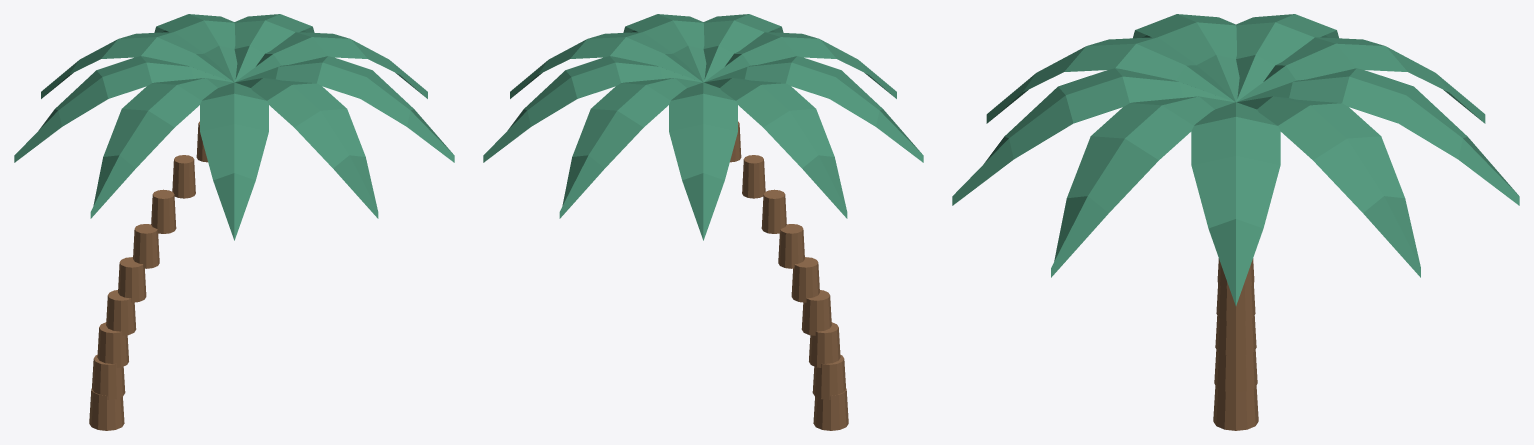
File: palm.glb
The picture shows the model from 3 angles, left to right: view 1: azimuth 30°, elevation 25°; view 2: azimuth 150°, elevation 25°; view 3: azimuth 270°, elevation 25°; orthographic projection. The views are drawn at different scales.
Visible parts, largest first — view 1: Sculpted palm frond.006, Sculpted palm frond.007, Sculpted palm frond.005, Sculpted palm frond.008, Sculpted palm frond.004, Sculpted palm frond.003, Sculpted palm frond, Sculpted palm frond.002, Sculpted palm frond.001, Ringed trunk, Ringed trunk.001, Ringed trunk.003 (+5 smaller); view 2: Sculpted palm frond.003, Sculpted palm frond.004, Sculpted palm frond.002, Sculpted palm frond.005, Sculpted palm frond.001, Sculpted palm frond, Sculpted palm frond.006, Sculpted palm frond.008, Sculpted palm frond.007, Ringed trunk, Ringed trunk.001, Ringed trunk.003 (+5 smaller); view 3: Sculpted palm frond, Sculpted palm frond.001, Sculpted palm frond.008, Sculpted palm frond.002, Sculpted palm frond.007, Sculpted palm frond.006, Sculpted palm frond.003, Sculpted palm frond.005, Sculpted palm frond.004, Ringed trunk, Ringed trunk.001, Ringed trunk.002 (+1 smaller).
Part boxes in pixels (x1,y1,x2,y2): Sculpted palm frond.006: [200, 82, 268, 240]; Sculpted palm frond.007: [235, 78, 378, 218]; Sculpted palm frond.005: [90, 78, 233, 218]; Sculpted palm frond.008: [235, 56, 454, 162]; Sculpted palm frond.004: [14, 56, 233, 162]; Sculpted palm frond.003: [41, 32, 233, 98]; Sculpted palm frond: [235, 32, 427, 98]; Sculpted palm frond.002: [154, 14, 237, 82]; Sculpted palm frond.001: [234, 14, 314, 81]; Ringed trunk: [89, 388, 124, 430]; Ringed trunk.001: [92, 354, 125, 399]; Ringed trunk.003: [106, 290, 136, 335]; Sculpted palm frond.003: [669, 82, 737, 240]; Sculpted palm frond.004: [704, 78, 847, 218]; Sculpted palm frond.002: [559, 78, 702, 218]; Sculpted palm frond.005: [704, 56, 923, 162]; Sculpted palm frond.001: [483, 56, 702, 162]; Sculpted palm frond: [510, 32, 702, 98]; Sculpted palm frond.006: [704, 32, 896, 98]; Sculpted palm frond.008: [623, 14, 706, 82]; Sculpted palm frond.007: [703, 14, 783, 81]; Ringed trunk: [813, 388, 848, 430]; Ringed trunk.001: [812, 354, 845, 399]; Ringed trunk.003: [801, 290, 831, 335]; Sculpted palm frond: [1191, 102, 1280, 305]; Sculpted palm frond.001: [1237, 96, 1420, 277]; Sculpted palm frond.008: [1051, 96, 1234, 277]; Sculpted palm frond.002: [1237, 68, 1519, 205]; Sculpted palm frond.007: [952, 68, 1234, 205]; Sculpted palm frond.006: [986, 37, 1234, 123]; Sculpted palm frond.003: [1237, 37, 1485, 123]; Sculpted palm frond.005: [1133, 14, 1239, 101]; Sculpted palm frond.004: [1236, 14, 1338, 101]; Ringed trunk: [1213, 385, 1258, 430]; Ringed trunk.001: [1214, 349, 1257, 392]; Ringed trunk.002: [1215, 315, 1256, 356].
Size of the model in its own units: 8.34 by 7.14 by 8.47.
